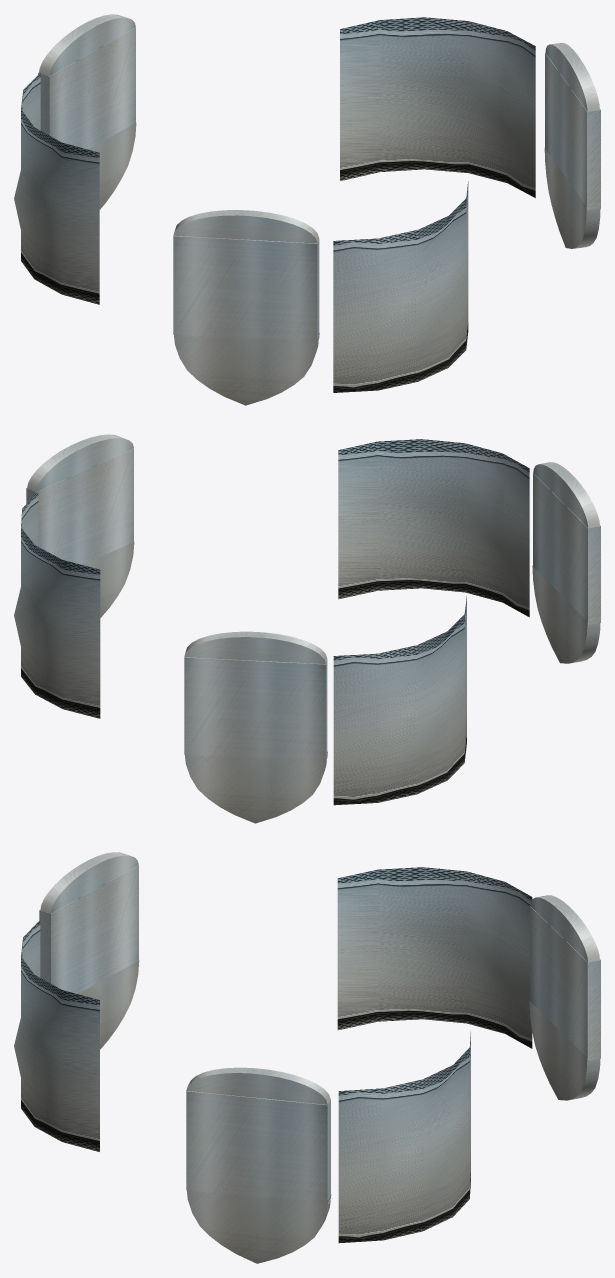
The model's file is 5S_00texiaohudun.FBX.
3 views of the same model, one above another, from view 1: azimuth 30°, elevation 25°; view 2: azimuth 150°, elevation 25°; view 3: azimuth 270°, elevation 25° (orthographic).
Visible parts, largest first — view 1: Cylinder002; view 2: Cylinder002; view 3: Cylinder002.
Part boxes in pixels (box(x1,y1,x2,y2)): Cylinder002: box(14, 14, 600, 405); Cylinder002: box(14, 434, 600, 823); Cylinder002: box(14, 852, 600, 1263).
Bounding box in the file's own units: 6.3 × 2.43 × 6.59.
